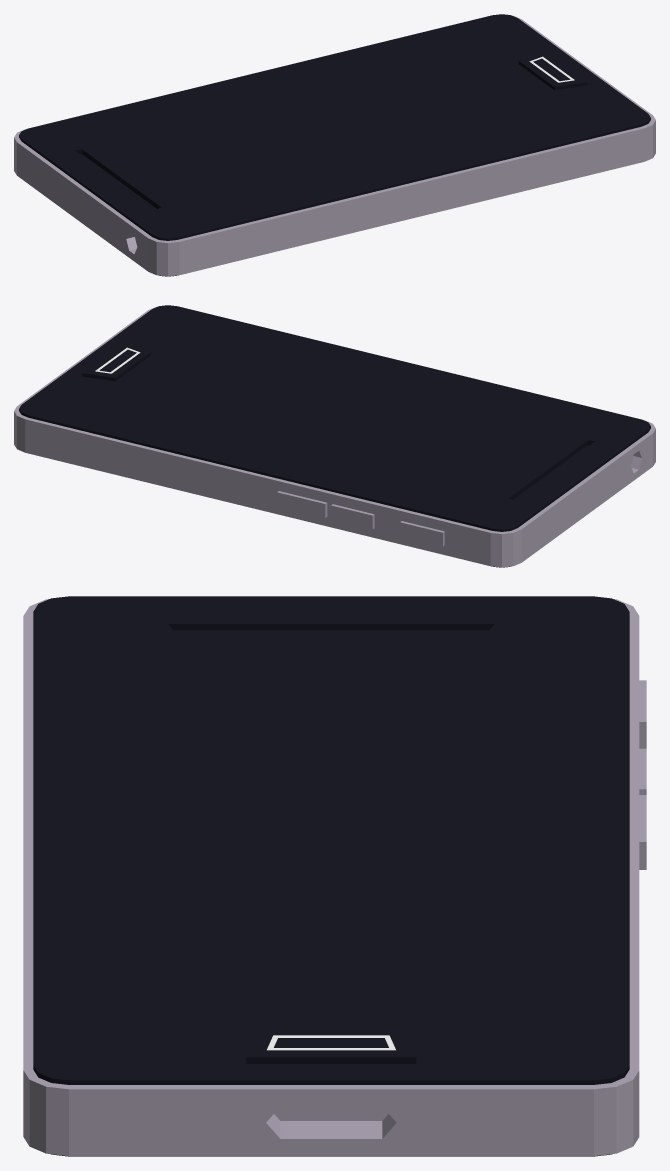
Rendered from Phone.fbx.
3 views of the same model, one above another, from view 1: azimuth 30°, elevation 25°; view 2: azimuth 150°, elevation 25°; view 3: azimuth 270°, elevation 25° (orthographic). The views are drawn at different scales.
Parts seen in each view (by area): view 1: Msh_Phone; view 2: Msh_Phone; view 3: Msh_Phone.
Part boxes in pixels (bbox=[...]): Msh_Phone: bbox=[14, 14, 655, 276]; Msh_Phone: bbox=[14, 305, 655, 567]; Msh_Phone: bbox=[23, 596, 646, 1156].
Bounding box in the file's own units: 140 × 10.97 × 74.69.
